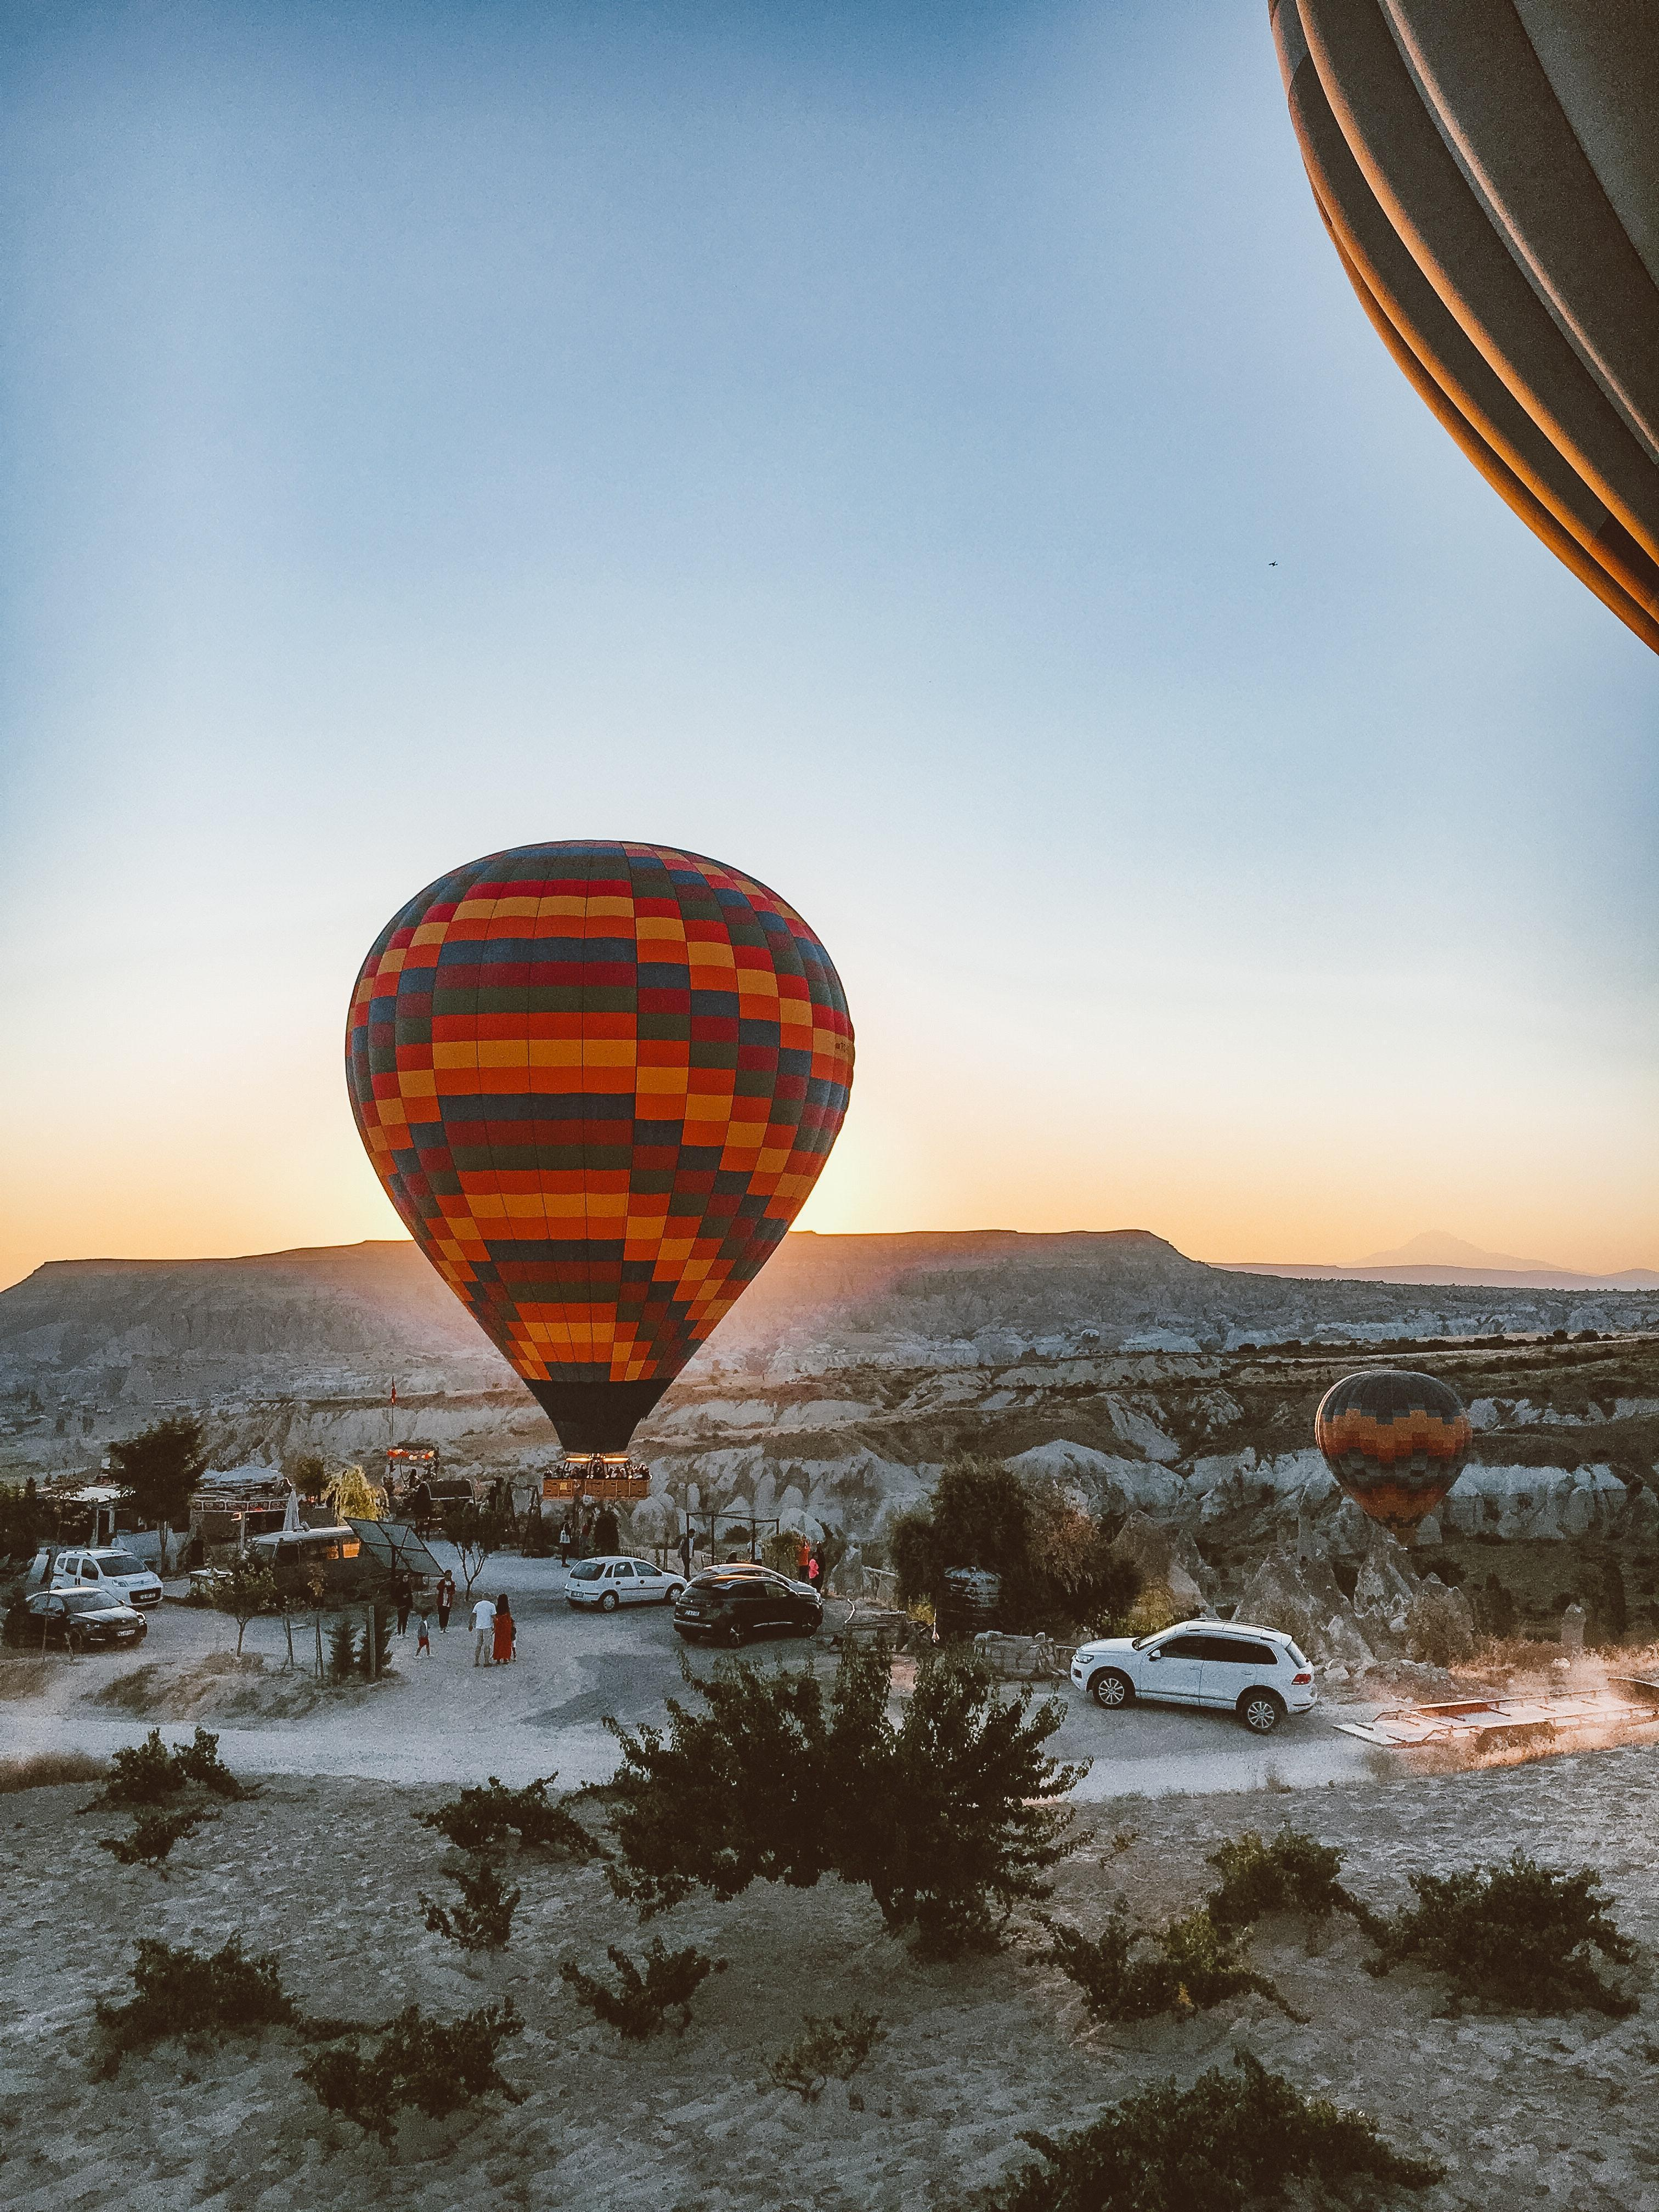hot air ballon: (347, 838, 856, 1500)
